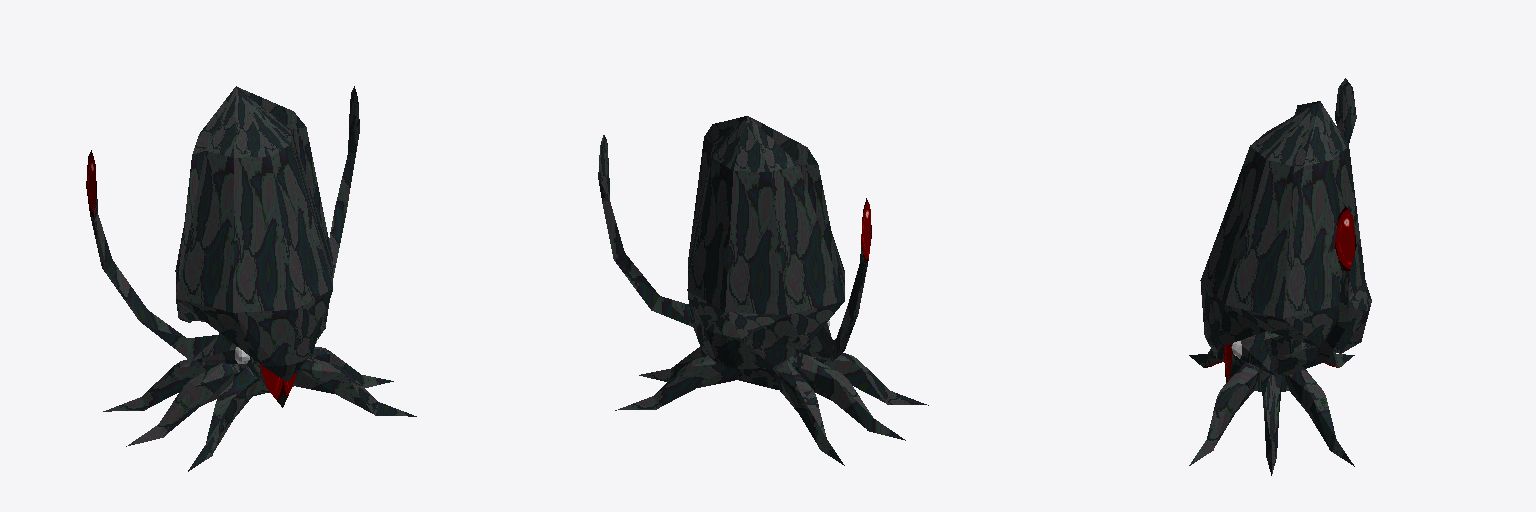
3 views of the same model, side by side, from view 1: azimuth 30°, elevation 25°; view 2: azimuth 150°, elevation 25°; view 3: azimuth 270°, elevation 25° (orthographic).
Parts seen in each view (by area): view 1: Sub-Model_0.001, Sub-Model_0; view 2: Sub-Model_0.001, Sub-Model_0; view 3: Sub-Model_0.001, Sub-Model_0.
Part boxes in pixels (bbox=[...]): Sub-Model_0.001: bbox=[175, 86, 332, 381]; Sub-Model_0: bbox=[86, 86, 416, 471]; Sub-Model_0.001: bbox=[687, 116, 844, 368]; Sub-Model_0: bbox=[598, 135, 928, 465]; Sub-Model_0.001: bbox=[1200, 101, 1371, 357]; Sub-Model_0: bbox=[1189, 78, 1356, 475].
Bounding box in the file's own units: 5.48 × 6.03 × 3.24.
Materials: 3 (2 with a texture image).